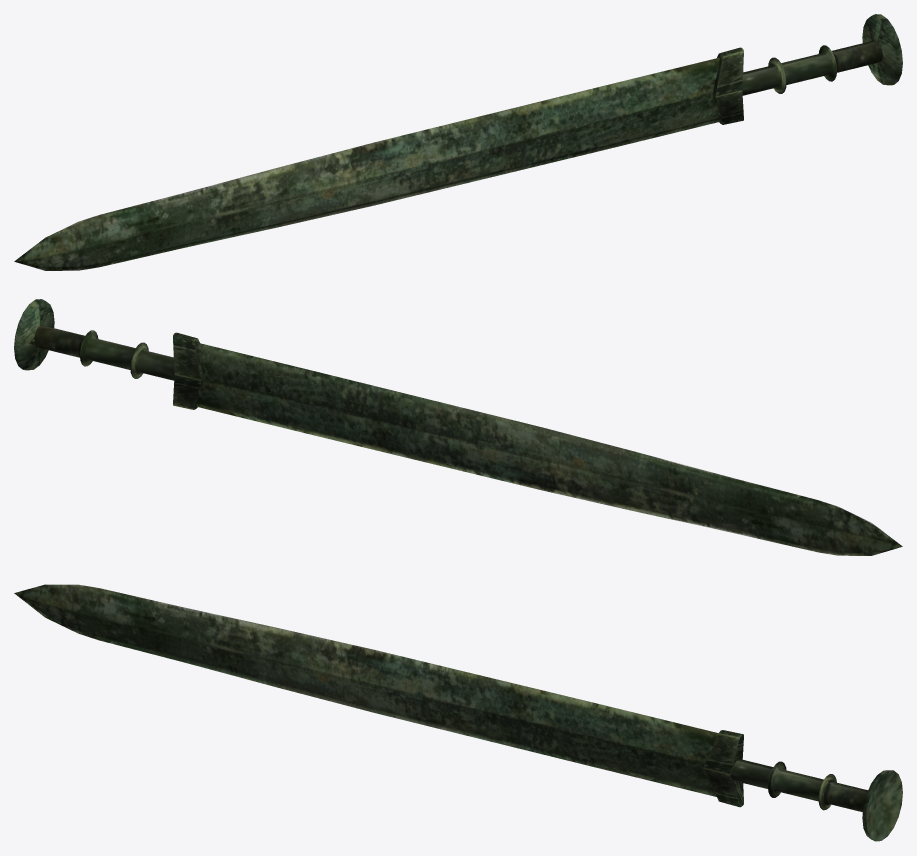
The model's file is 汉代青铜剑.FBX.
3 renders of one model, top to bottom at view 1: azimuth 30°, elevation 25°; view 2: azimuth 150°, elevation 25°; view 3: azimuth 330°, elevation 25°, orthographic.
Visible parts, largest first — view 1: Capsule001; view 2: Capsule001; view 3: Capsule001.
Boxes of the visible parts, x1=… form: Capsule001: x1=14, y1=14, x2=902, y2=270; Capsule001: x1=14, y1=299, x2=902, y2=555; Capsule001: x1=14, y1=584, x2=902, y2=841.
Size of the model in its own units: 146 by 11.48 by 10.63.
1 material, 1 textured.
